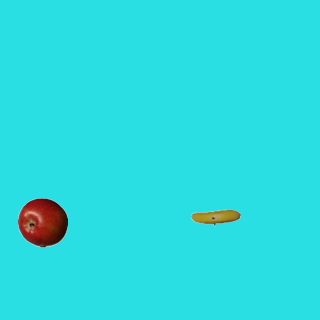Apple Braeburn: (17, 197, 67, 247)
Banana: (190, 192, 240, 242)
